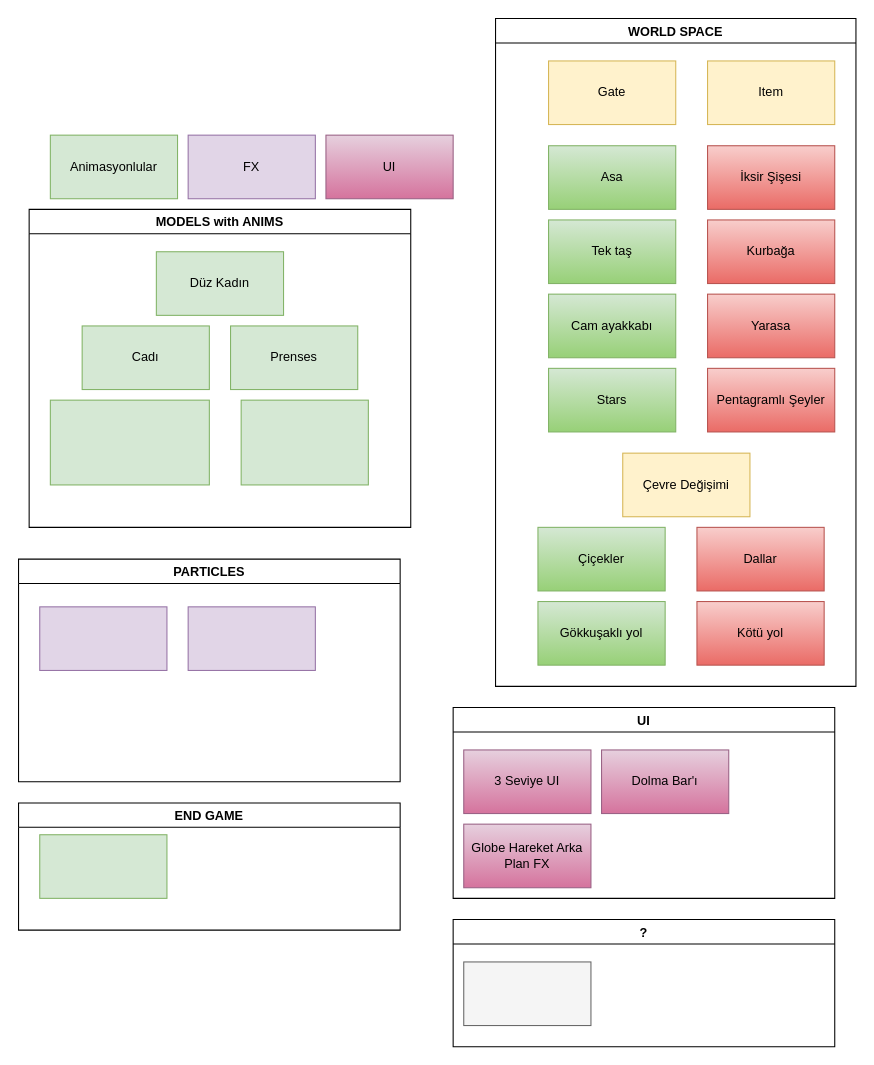
Some shapes in this 874 by 1065 pixel diagram are drawn without their labels. Here are the shapes that lost their labels. From the top down, the centre of each, then its label:
At (x=129, y=442): "Yarasa Familiar elbise süpürge".
At (x=304, y=442): "elbise kelebek kanat".
At (x=103, y=638): "Good Item Alma FX".
At (x=251, y=638): "Bad Item Alma FX".
At (x=103, y=866): "Zıplama Yeri".
At (x=527, y=993): "Minigame".
